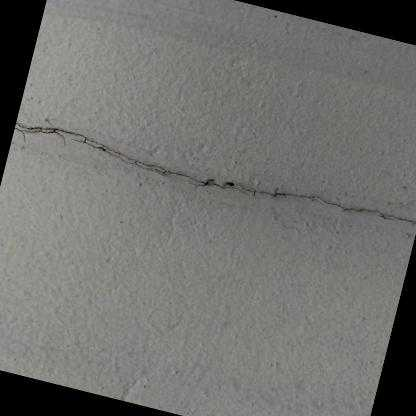crack: (13, 122, 416, 225)
